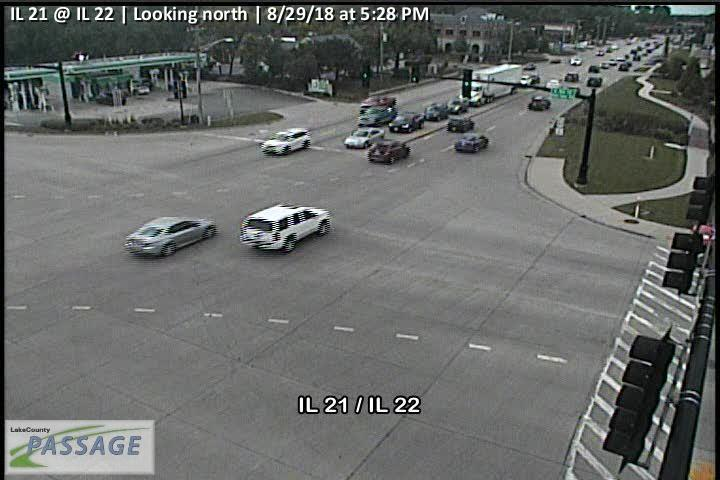SUV: (239, 203, 331, 253), (260, 127, 311, 155), (367, 138, 410, 164), (358, 106, 397, 126), (359, 95, 397, 112), (446, 115, 475, 132)
Sedan: (124, 215, 218, 257), (344, 126, 385, 148), (454, 131, 489, 153), (388, 112, 425, 132), (425, 102, 451, 121)
Truck: (459, 62, 522, 107)
